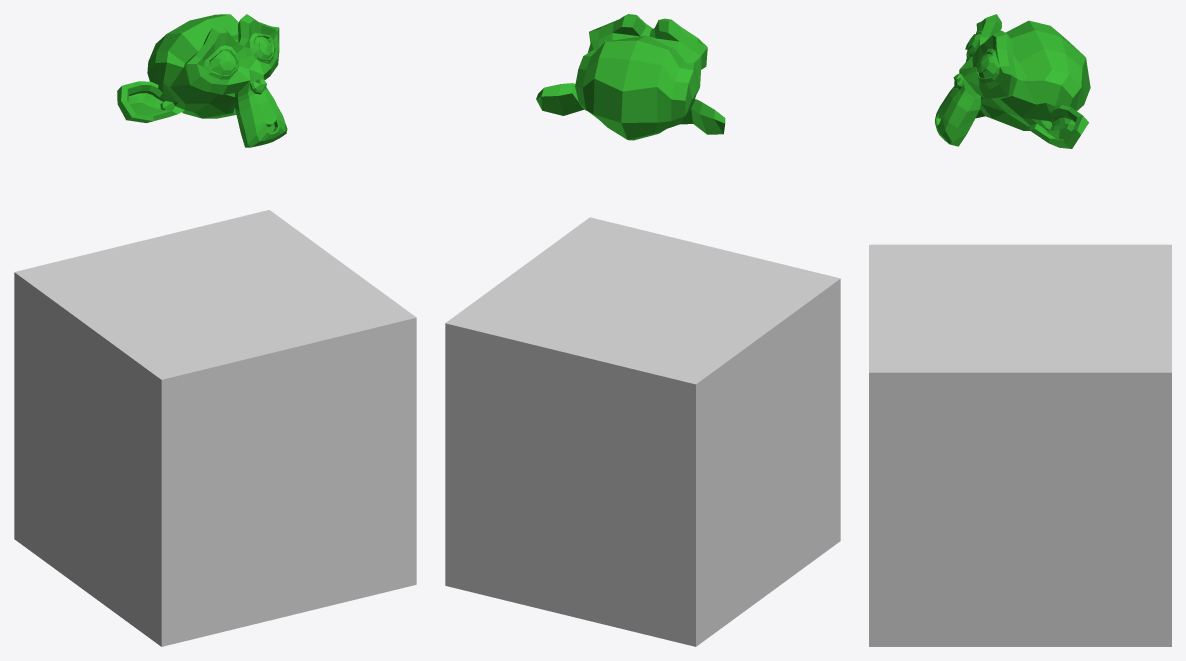
The model's file is monk.test.2.gltf.
The picture shows the model from 3 angles, left to right: view 1: azimuth 30°, elevation 25°; view 2: azimuth 150°, elevation 25°; view 3: azimuth 270°, elevation 25°; orthographic projection. The views are drawn at different scales.
Parts seen in each view (by area): view 1: Cube, Suzanne.001; view 2: Cube, Suzanne.001; view 3: Cube, Suzanne.001.
Part boxes in pixels (x1,y1,x2,y2): Cube: (14,210,416,646); Suzanne.001: (117,14,287,147); Cube: (445,217,840,646); Suzanne.001: (536,14,725,140); Cube: (869,244,1171,646); Suzanne.001: (935,14,1090,148).
Size of the model in its own units: 2 by 4.09 by 2.
